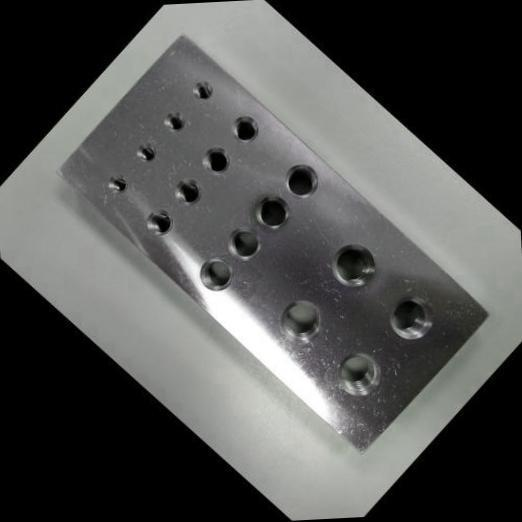hole: (319, 233, 385, 299), (324, 342, 390, 407), (378, 286, 442, 352), (268, 290, 332, 354), (274, 157, 326, 208), (217, 219, 268, 270), (190, 250, 240, 300), (246, 188, 296, 238), (166, 172, 208, 214), (194, 140, 236, 182), (223, 110, 264, 150), (139, 204, 178, 244), (157, 106, 190, 138), (102, 170, 132, 200), (130, 140, 160, 168), (188, 77, 216, 106)
